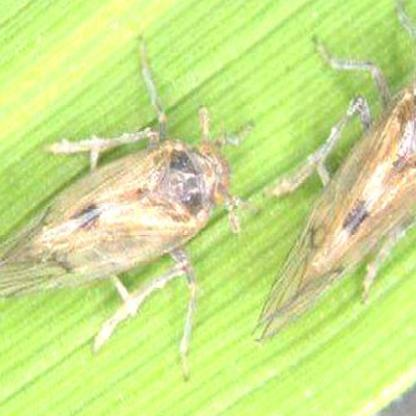brown-planthopper: (251, 67, 416, 336), (8, 114, 235, 301)
